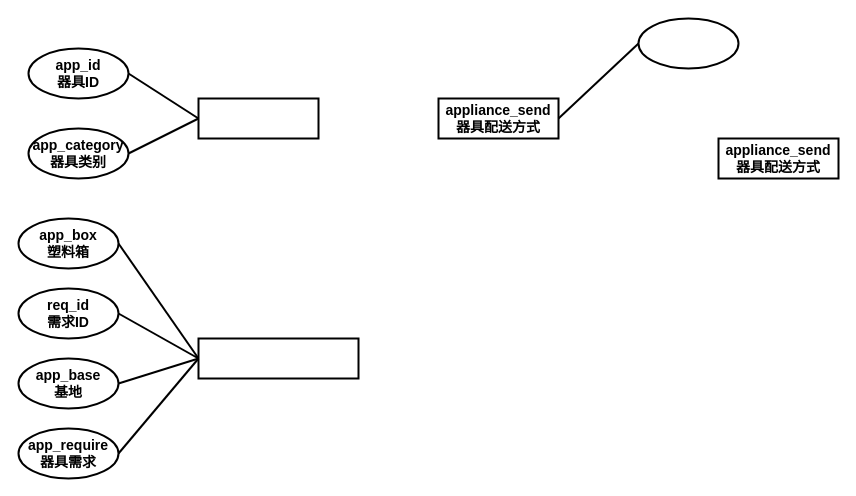
Image size: 856x496. Some labels were removed from this diagram. Each missing label, with the box of its shape:
appliance 器具: (197, 97, 319, 139)
appliance_requirement 器具需求: (197, 337, 359, 379)
suporter 供应商: (637, 17, 739, 69)
